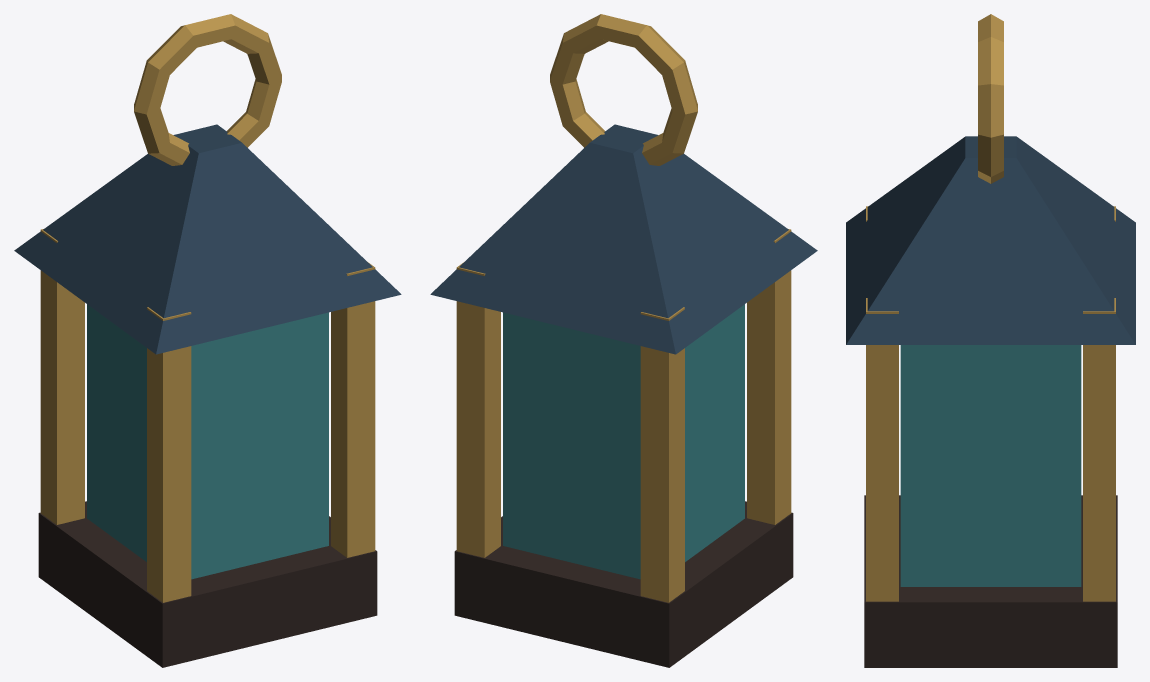
File: PirateCove_HarborLantern_Standard.glb
The picture shows the model from 3 angles, left to right: view 1: azimuth 30°, elevation 25°; view 2: azimuth 150°, elevation 25°; view 3: azimuth 270°, elevation 25°; orthographic projection. The views are drawn at different scales.
Visible parts, largest first — view 1: PirateCove_HarborLantern_Standard; view 2: PirateCove_HarborLantern_Standard; view 3: PirateCove_HarborLantern_Standard.
Boxes of the visible parts, box(x1,y1,x2,y2) form: PirateCove_HarborLantern_Standard: box(14, 14, 401, 667); PirateCove_HarborLantern_Standard: box(430, 14, 817, 667); PirateCove_HarborLantern_Standard: box(846, 14, 1135, 667).
Bounding box in the file's own units: 0.4808 × 1.08 × 0.4808.
